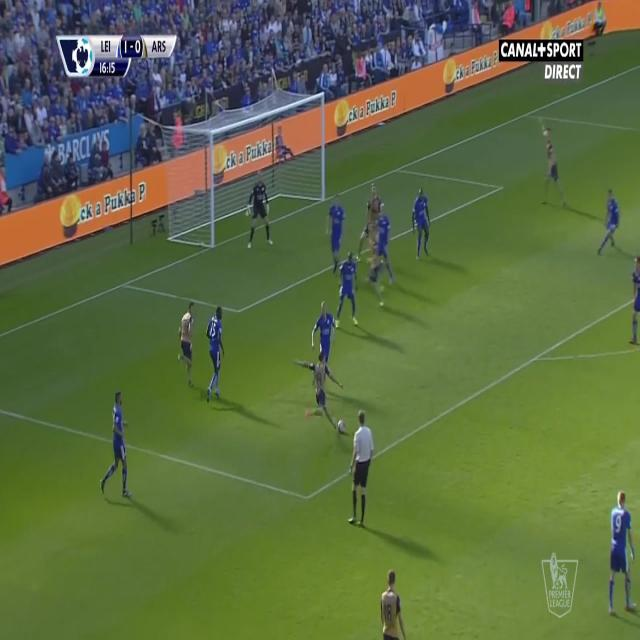Ball: (336, 414, 348, 440)
Goalkeeper: (244, 170, 274, 254)
Player: (606, 488, 640, 617), (99, 386, 134, 502), (293, 352, 345, 429), (540, 119, 568, 211), (206, 305, 227, 408), (377, 568, 407, 640), (336, 250, 362, 329), (410, 186, 436, 263), (375, 202, 397, 292), (310, 300, 341, 361), (325, 194, 348, 276), (177, 301, 197, 390), (597, 187, 621, 260), (364, 185, 382, 259), (628, 254, 640, 350)
Referee: (345, 406, 375, 531)
